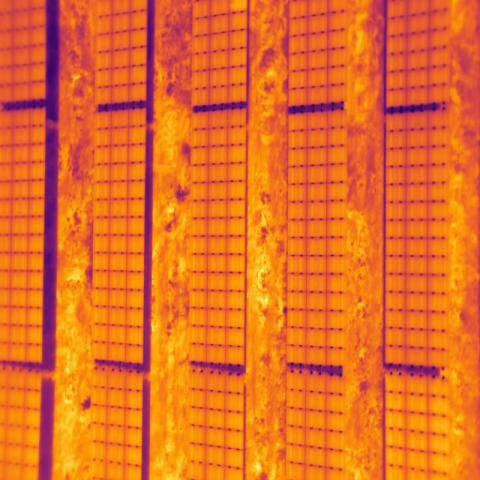fault: (229, 0, 247, 12)
